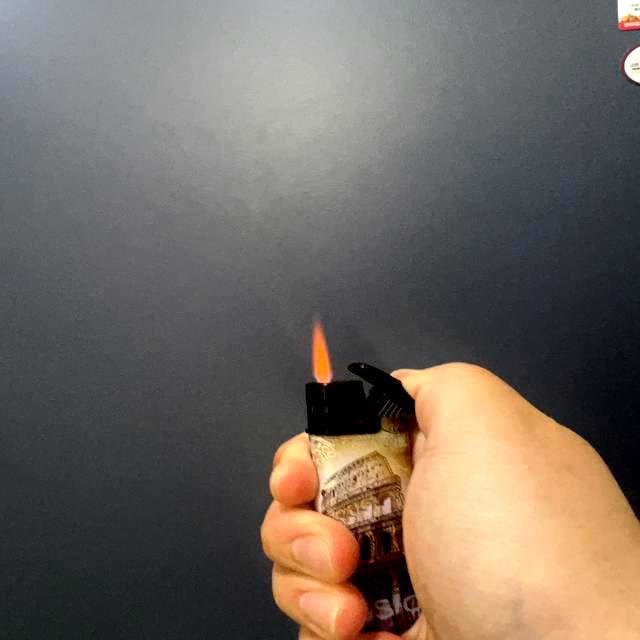fire: (307, 318, 337, 386)
